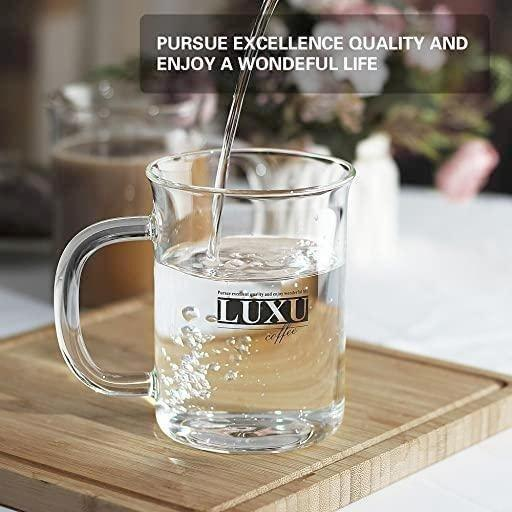glass-mug: (47, 140, 363, 460)
